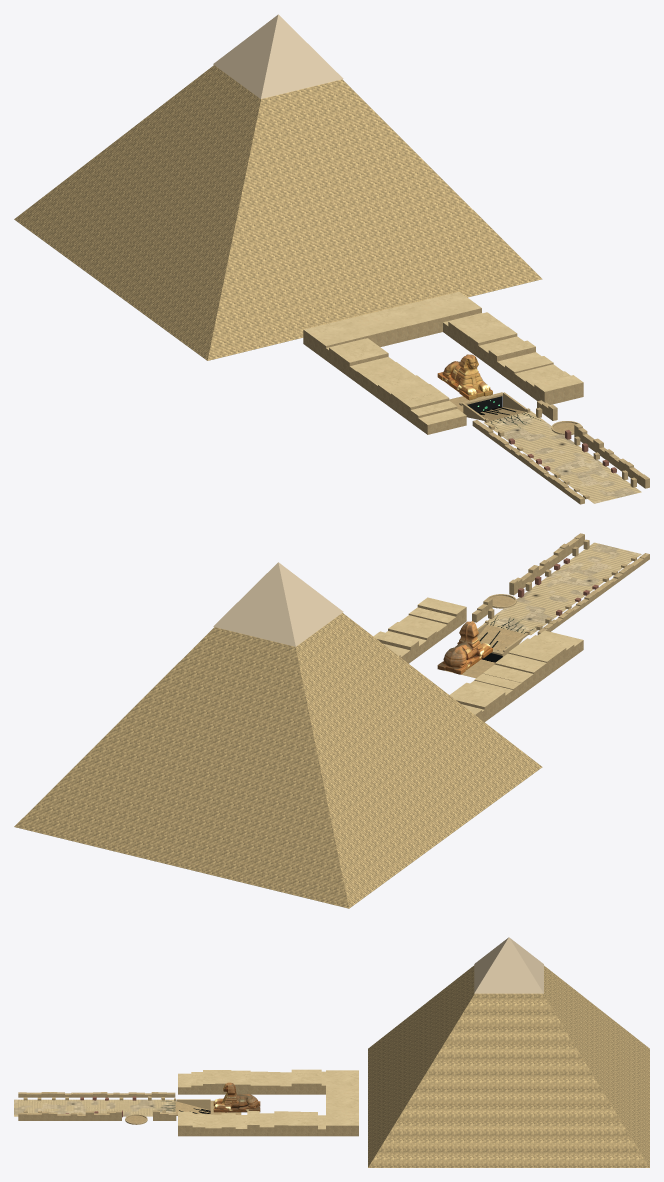
The model's file is lugar-gizeh.glb.
3 renders of one model, top to bottom at view 1: azimuth 30°, elevation 25°; view 2: azimuth 150°, elevation 25°; view 3: azimuth 270°, elevation 25°, orthographic. The views are drawn at different scales.
Visible parts, largest first — view 1: luzE, luzS-pista, vert-esfinge; view 2: luzE, luzS-pista, vert-esfinge; view 3: luzE, luzS-pista, vert-esfinge.
Part boxes in pixels (left/top/right/bottom): luzE: left=14, top=14, right=583, bottom=434; luzS-pista: left=449, top=392, right=649, bottom=504; vert-esfinge: left=437, top=354, right=492, bottom=400; luzE: left=14, top=562, right=583, bottom=908; luzS-pista: left=445, top=533, right=649, bottom=678; vert-esfinge: left=437, top=621, right=492, bottom=674; luzE: left=178, top=937, right=649, bottom=1167; luzS-pista: left=14, top=1092, right=241, bottom=1124; vert-esfinge: left=213, top=1082, right=260, bottom=1112.
Size of what is drawn, in the model's own units: 129 by 91.1 by 291.
13 materials, 7 textured.
